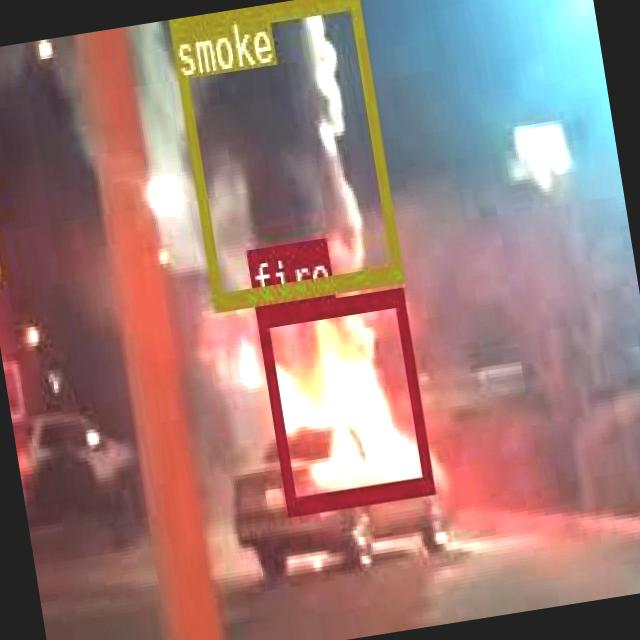fire: (255, 286, 432, 510)
smoke: (167, 0, 400, 309)
